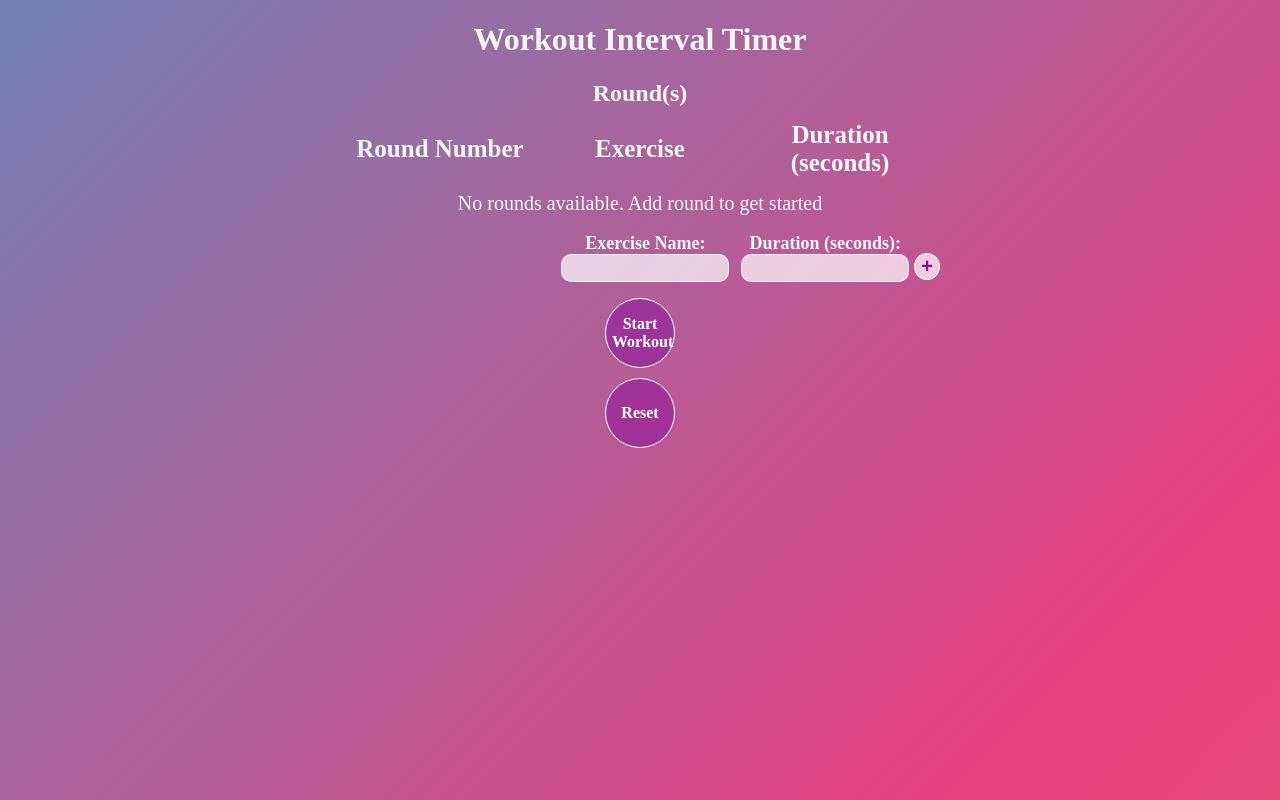
App › Displays error if adding round with a round duration which isn't a whole number
Type "Push-ups" into the field with id "exercise_name" at {"x": 645, "y": 268}, box [561,254,729,282]
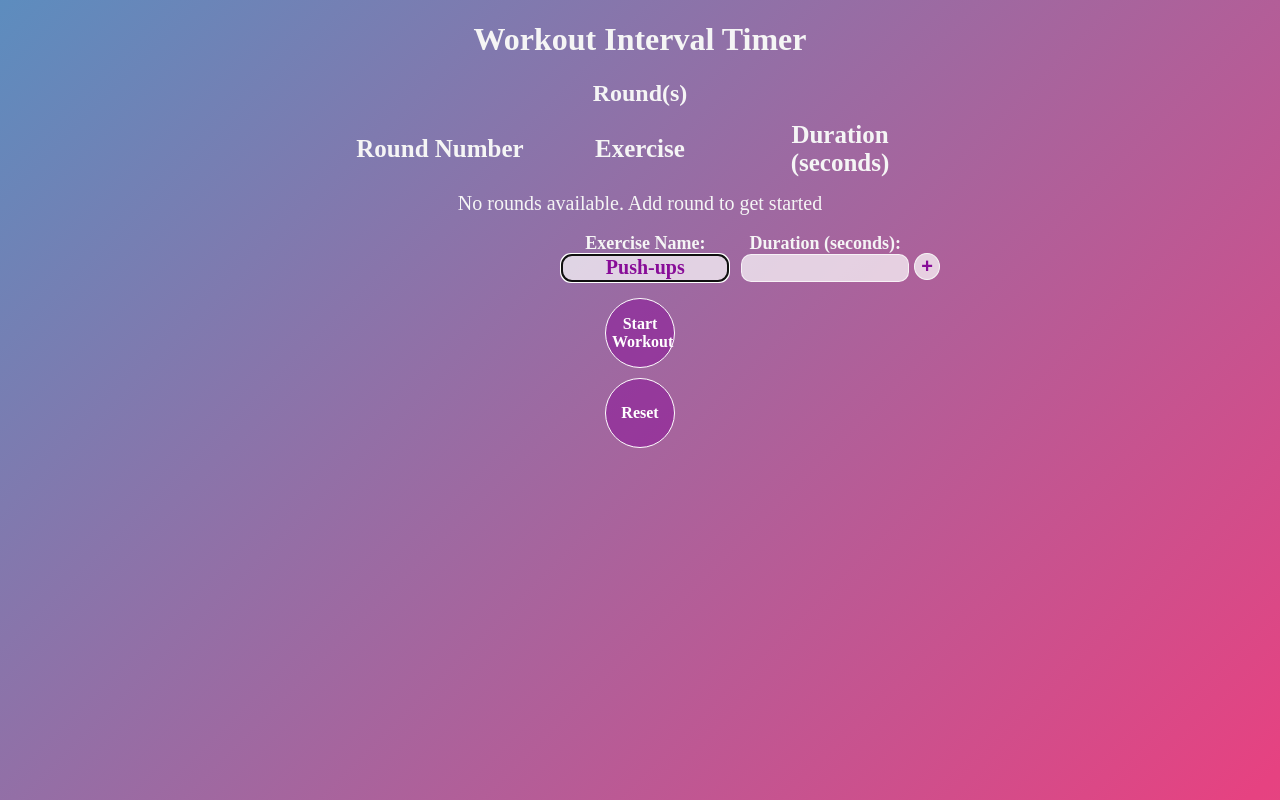
Type "30.5" into the field with id "round_duration" at {"x": 825, "y": 268}, box [741,254,909,282]
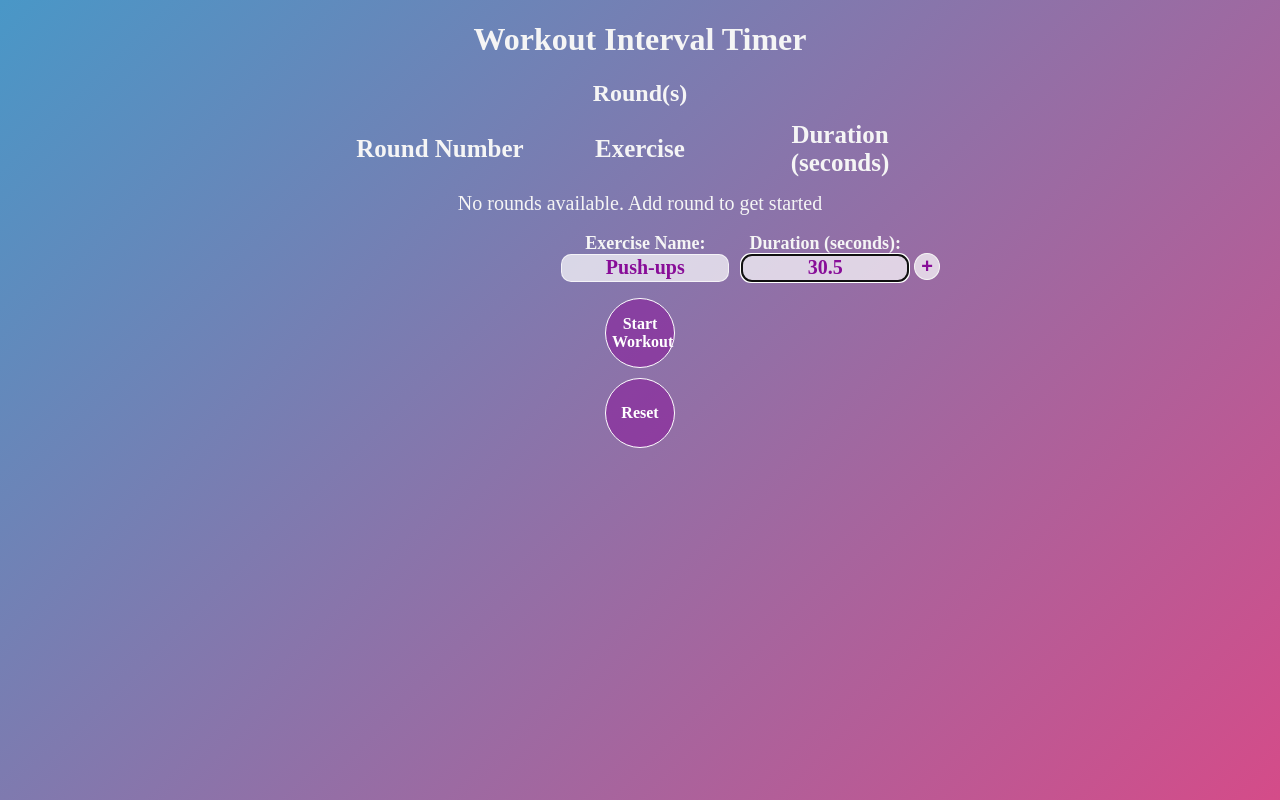
Click the button with id "add_round" at {"x": 927, "y": 267}, box [914,253,940,280]
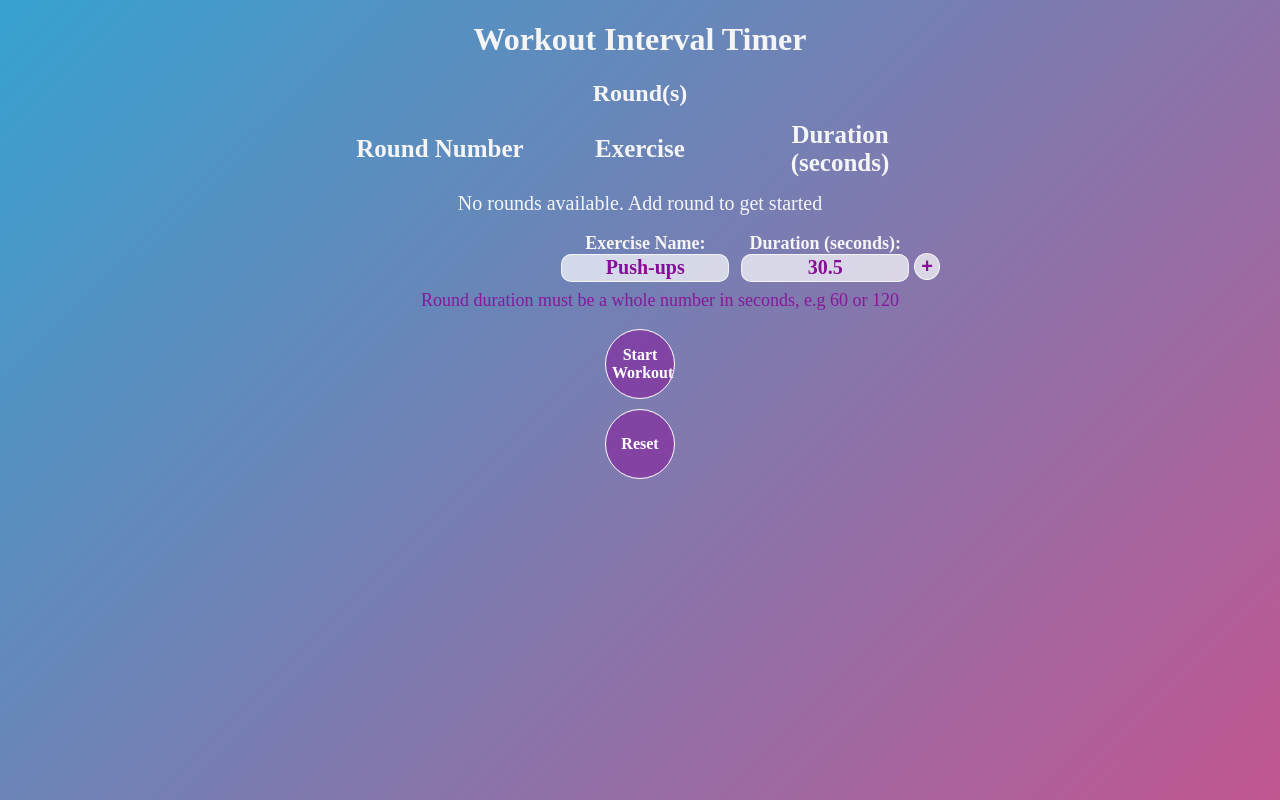
Result: the text "Round duration must be a whole number in seconds, e.g 60 or 120" is shown at [421,290,899,310]
